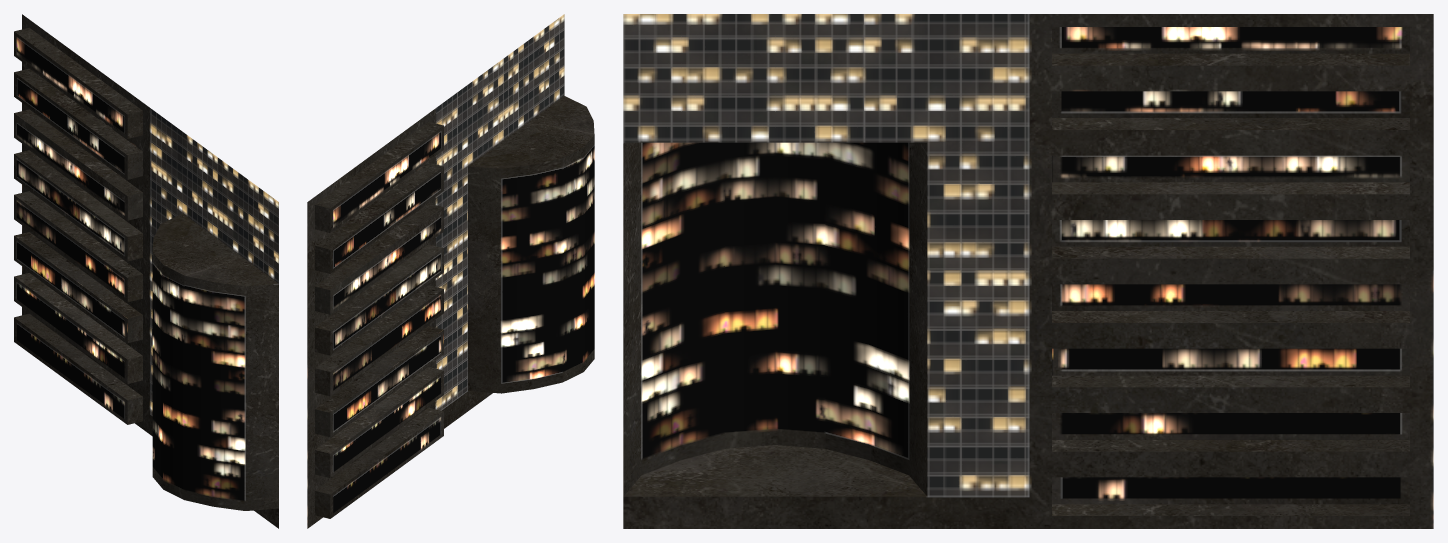
The model's file is SM_Parts_polySurface5.fbx.
The picture shows the model from 3 angles, left to right: view 1: azimuth 30°, elevation 25°; view 2: azimuth 150°, elevation 25°; view 3: azimuth 270°, elevation 25°; orthographic projection. The views are drawn at different scales.
Visible parts, largest first — view 1: SM_Parts_polySurface5_LOD0; view 2: SM_Parts_polySurface5_LOD0; view 3: SM_Parts_polySurface5_LOD0.
Boxes of the visible parts, x1=… form: SM_Parts_polySurface5_LOD0: x1=14, y1=14, x2=278, y2=528; SM_Parts_polySurface5_LOD0: x1=307, y1=14, x2=594, y2=528; SM_Parts_polySurface5_LOD0: x1=623, y1=14, x2=1433, y2=528.
Size of the model in its own units: 436 by 2880 by 2020.
Materials: 1 (1 with a texture image).
